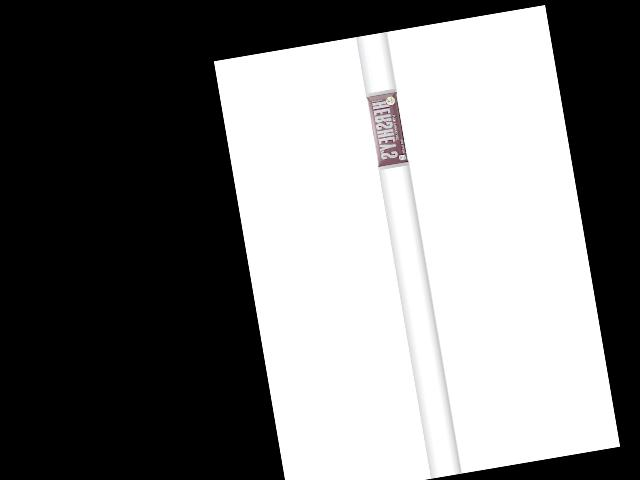chocolate: (367, 89, 412, 170)
